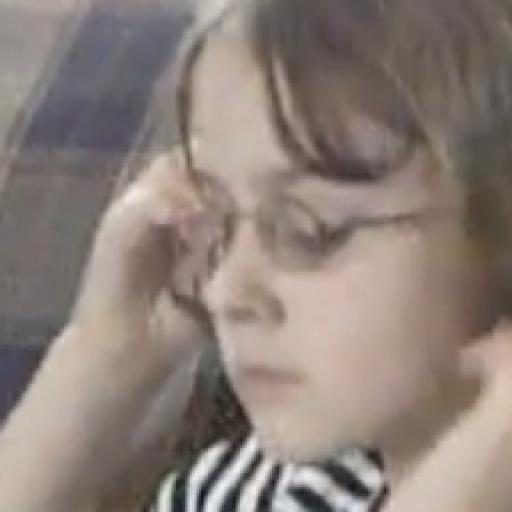Autism: (172, 14, 504, 482)
